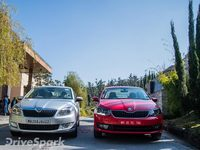car: (8, 85, 82, 138), (92, 86, 163, 138)
